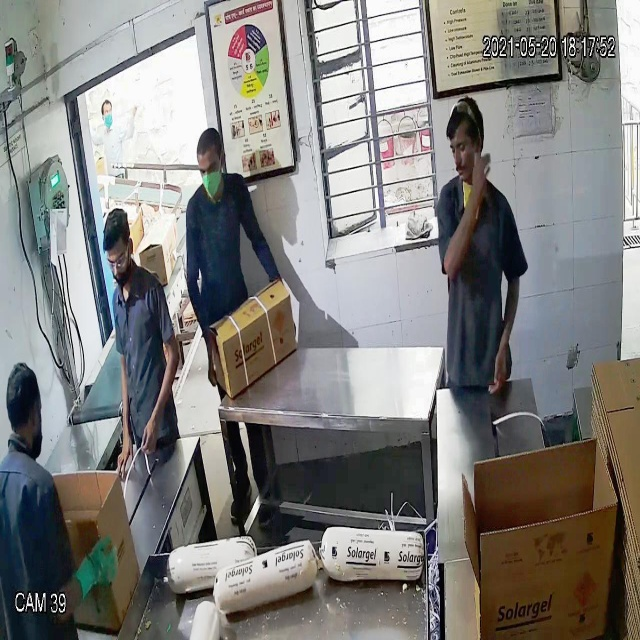Gafas: (104, 248, 133, 272)
Sin_gafas: (446, 132, 477, 161), (195, 156, 223, 182)
